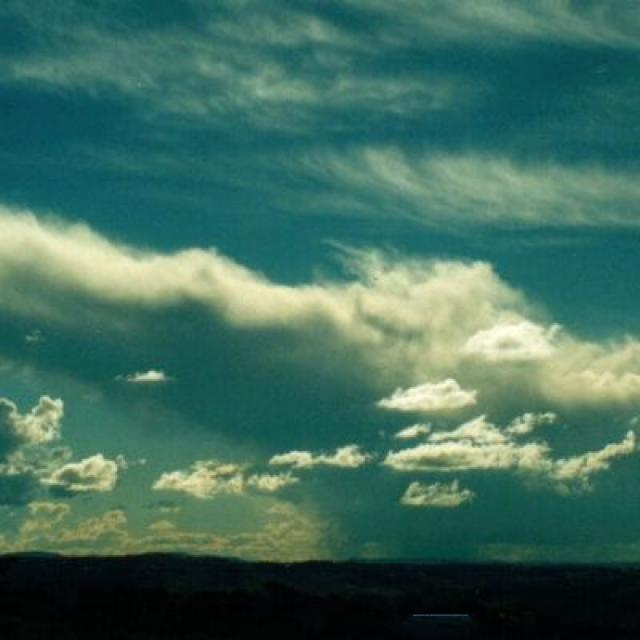Ci: (1, 76, 640, 512)
